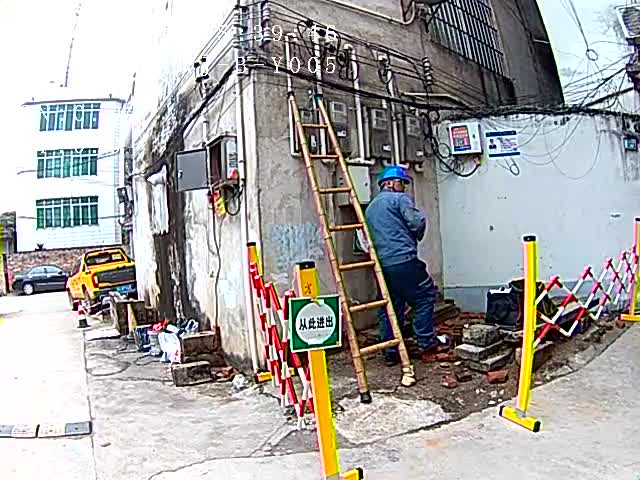halt: (380, 169, 415, 195)
